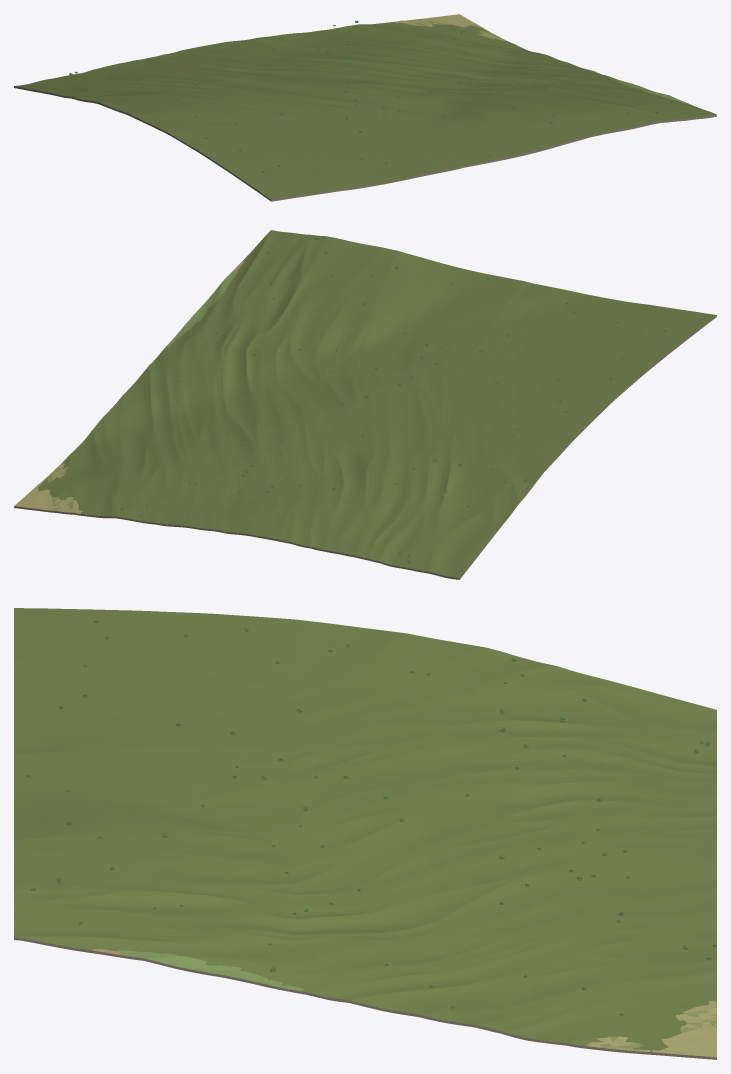
Rendered from parca_+8_+0-yakin.glb.
The picture shows the model from 3 angles, top to bottom: view 1: azimuth 30°, elevation 25°; view 2: azimuth 150°, elevation 25°; view 3: azimuth 270°, elevation 25°; orthographic projection. The views are drawn at different scales.
Visible parts, largest first — view 1: parca_+8_+0_arazi, parca_+8_+0_bitkiler; view 2: parca_+8_+0_arazi, parca_+8_+0_bitkiler; view 3: parca_+8_+0_arazi, parca_+8_+0_bitkiler.
Boxes of the visible parts, box(x1,y1,x2,y2) form: parca_+8_+0_arazi: box(14, 14, 716, 201); parca_+8_+0_bitkiler: box(69, 20, 672, 181); parca_+8_+0_arazi: box(14, 230, 716, 579); parca_+8_+0_bitkiler: box(50, 237, 666, 562); parca_+8_+0_arazi: box(14, 608, 716, 1059); parca_+8_+0_bitkiler: box(24, 620, 716, 1044).
Size of the model in its own units: 1000 by 246 by 1000.
